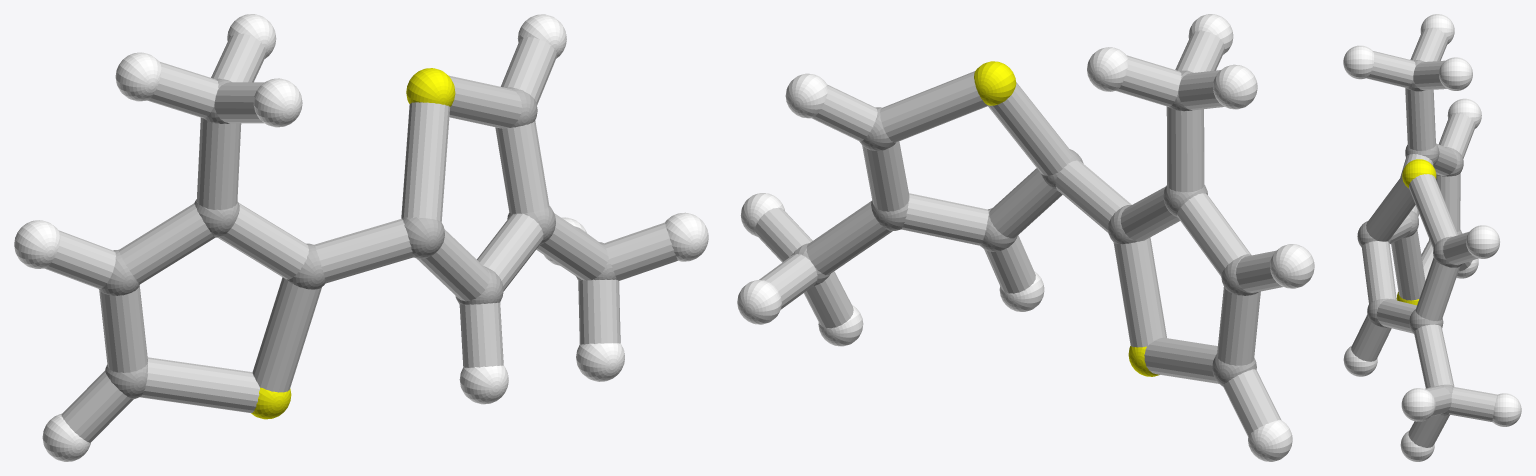
File: Methylthiophene_Phi_50_Theta_350_Methylthiophene.glb
The picture shows the model from 3 angles, left to right: view 1: azimuth 30°, elevation 25°; view 2: azimuth 150°, elevation 25°; view 3: azimuth 270°, elevation 25°; orthographic projection. The views are drawn at different scales.
Parts seen in each view (by area): view 1: grp7965, grp3621, grp1, grp7241; view 2: grp7965, grp3621, grp1, grp7241; view 3: grp7965, grp3621, grp1, grp7241.
Boxes of the visible parts, x1,y1,x2,y2 form: grp7965: (44, 33, 677, 442); grp3621: (14, 14, 708, 461); grp1: (99, 78, 616, 398); grp7241: (251, 68, 455, 419); grp7965: (755, 31, 1283, 436); grp3621: (737, 14, 1314, 461); grp1: (791, 70, 1258, 386); grp7241: (974, 61, 1159, 376); grp7965: (1351, 28, 1497, 447); grp3621: (1343, 14, 1521, 461); grp1: (1357, 60, 1463, 415); grp7241: (1396, 159, 1436, 305).
Size of the model in its own units: 9.23 by 5.7 by 3.14.
